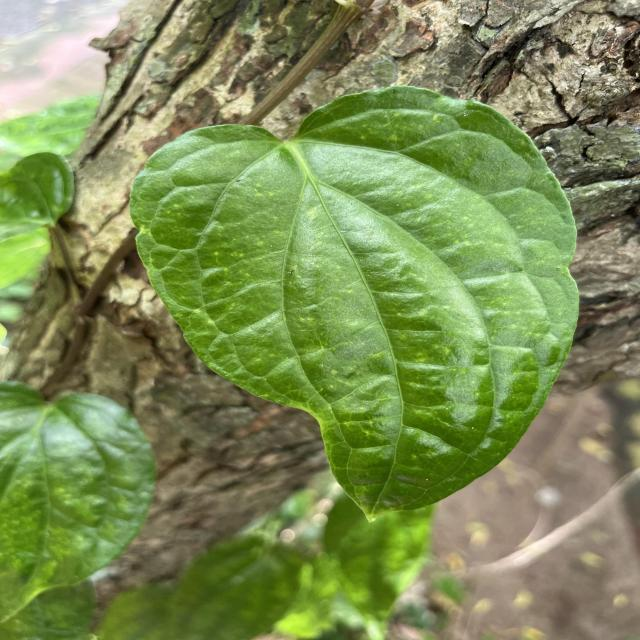Piper betle: (124, 82, 586, 527)
